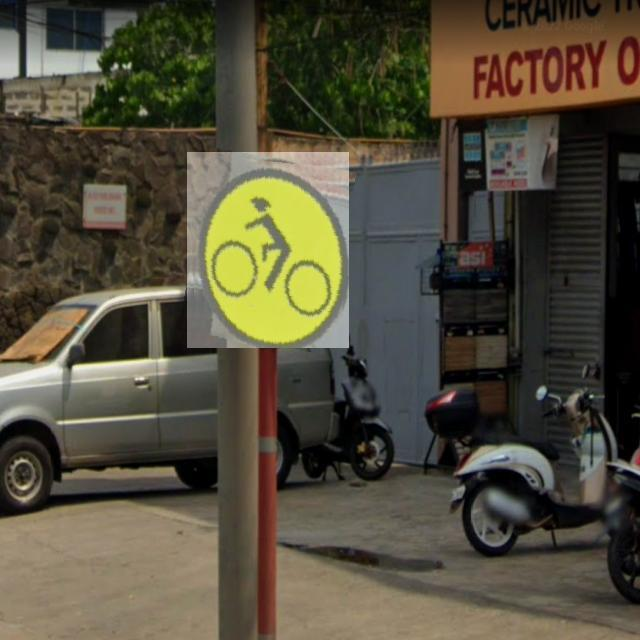bike lane: (187, 153, 349, 349)
